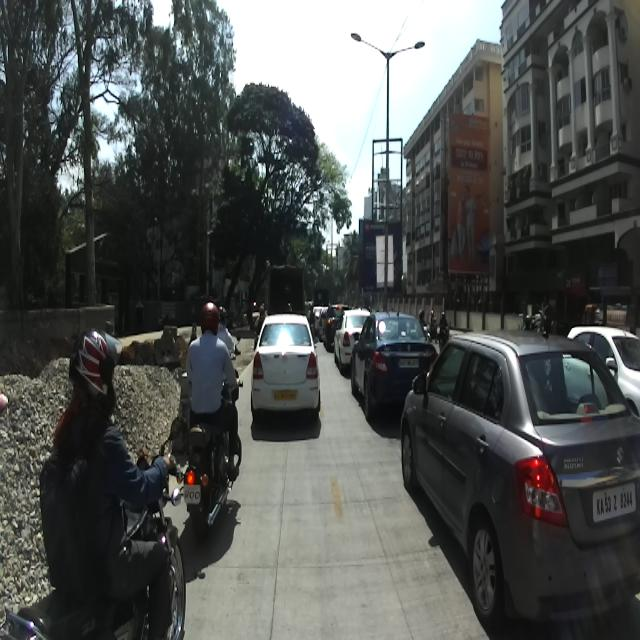car ahead at: (399, 326, 637, 640), (250, 312, 320, 422)
motorcycle ahead at: (176, 408, 248, 530)
